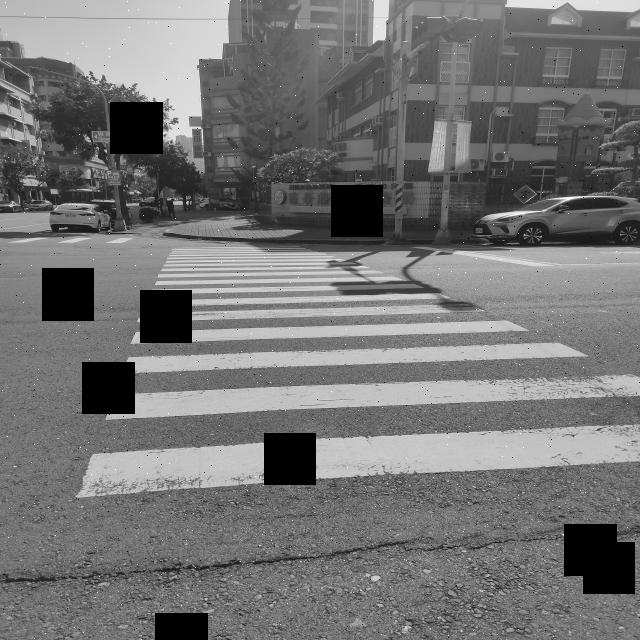zebra crossing: (71, 248, 640, 497), (6, 237, 133, 245)
